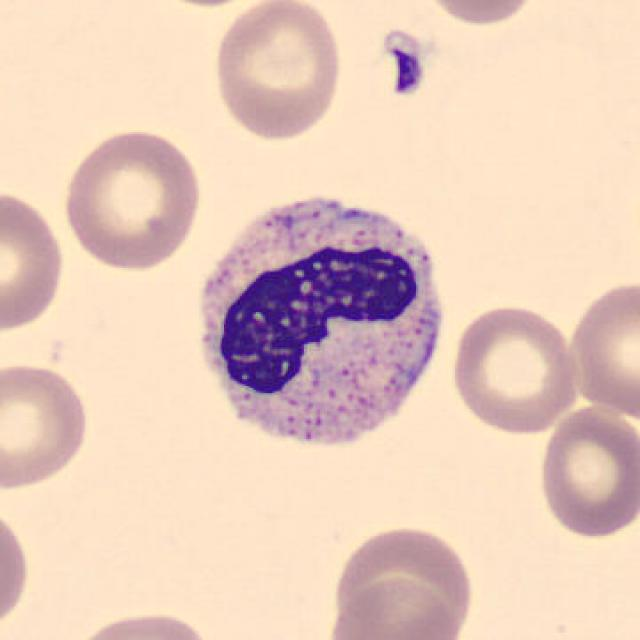Neutrophil: (183, 178, 457, 476)
Platelets: (378, 31, 428, 100)
RBC: (57, 124, 206, 274), (208, 0, 347, 143), (446, 300, 583, 437), (326, 518, 476, 638), (534, 402, 638, 541), (0, 358, 94, 492), (564, 275, 638, 423), (0, 183, 69, 334), (315, 575, 463, 640), (65, 606, 220, 640), (0, 499, 34, 636), (409, 0, 546, 28), (129, 0, 282, 12)
